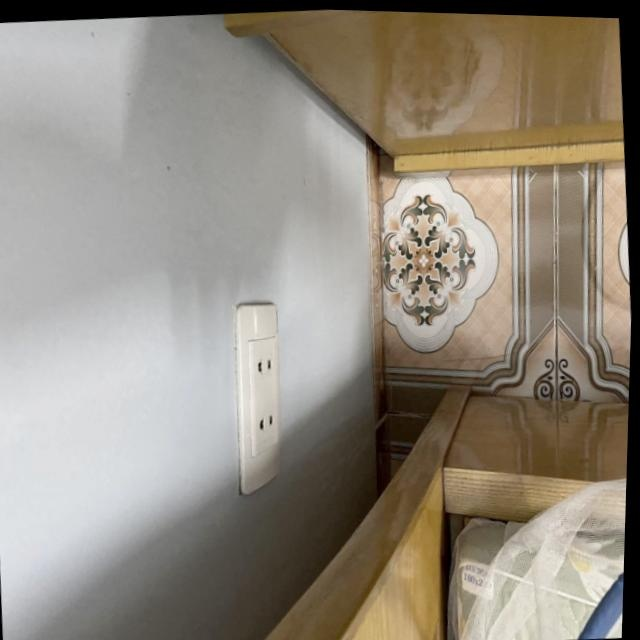outlet: (226, 299, 290, 496)
